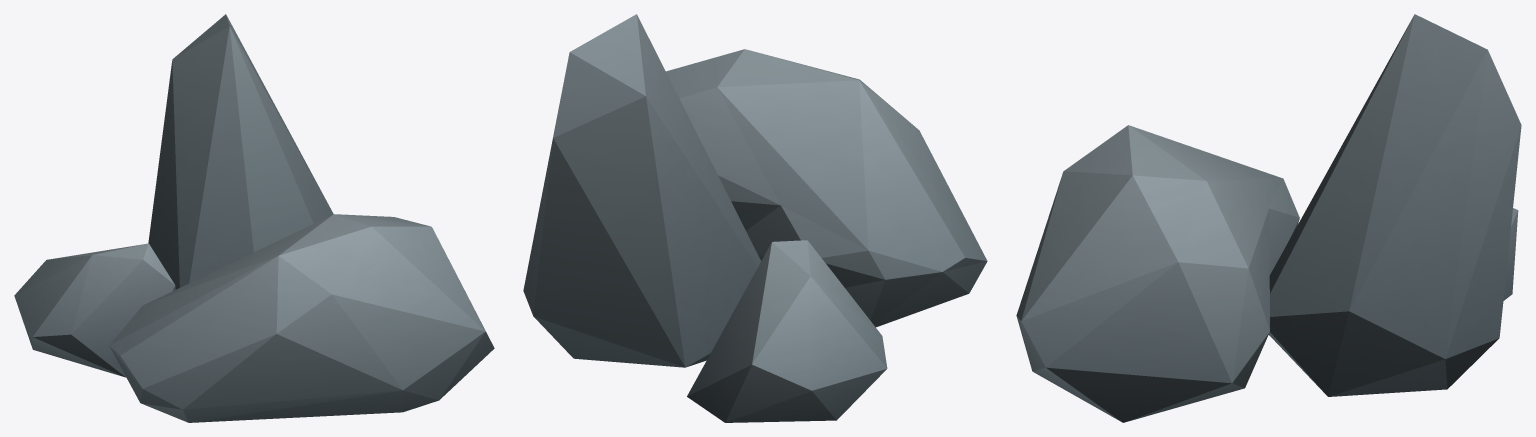
File: rockGrp.glb
The picture shows the model from 3 angles, left to right: view 1: azimuth 30°, elevation 25°; view 2: azimuth 150°, elevation 25°; view 3: azimuth 270°, elevation 25°; orthographic projection. The views are drawn at different scales.
Visible parts, largest first — view 1: rock3, rock1, rock2; view 2: rock1, rock3, rock2; view 3: rock1, rock3, rock2.
Part boxes in pixels (box(x1,y1,x2,y2)): rock3: box(109, 214, 494, 422); rock1: box(148, 14, 333, 289); rock2: box(14, 243, 175, 377); rock1: box(523, 14, 761, 367); rock3: box(666, 49, 987, 327); rock2: box(687, 240, 887, 422); rock1: box(1268, 14, 1521, 396); rock3: box(1016, 125, 1299, 422); rock2: box(1503, 208, 1518, 300).
Size of the model in its own units: 4.17 by 3.52 by 4.55.
1 material, 1 textured.
